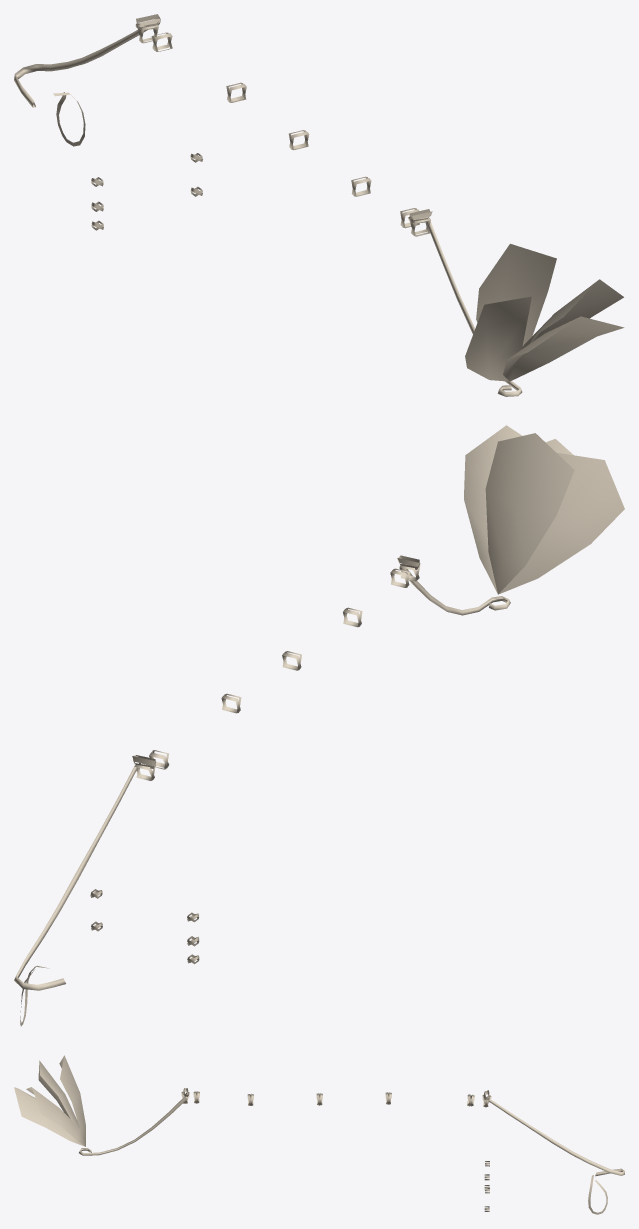
Rendered from ropes-base.glb.
The picture shows the model from 3 angles, top to bottom: view 1: azimuth 30°, elevation 25°; view 2: azimuth 150°, elevation 25°; view 3: azimuth 270°, elevation 25°; orthographic projection. The views are drawn at different scales.
Size of the model in its own units: 1.28 by 2.02 by 7.6.
